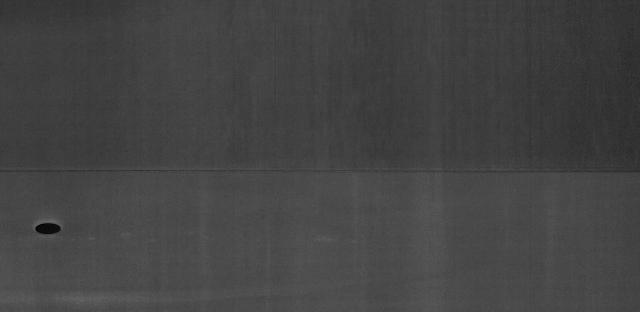punching_hole: (29, 213, 70, 242)
welding_line: (1, 163, 640, 180)
